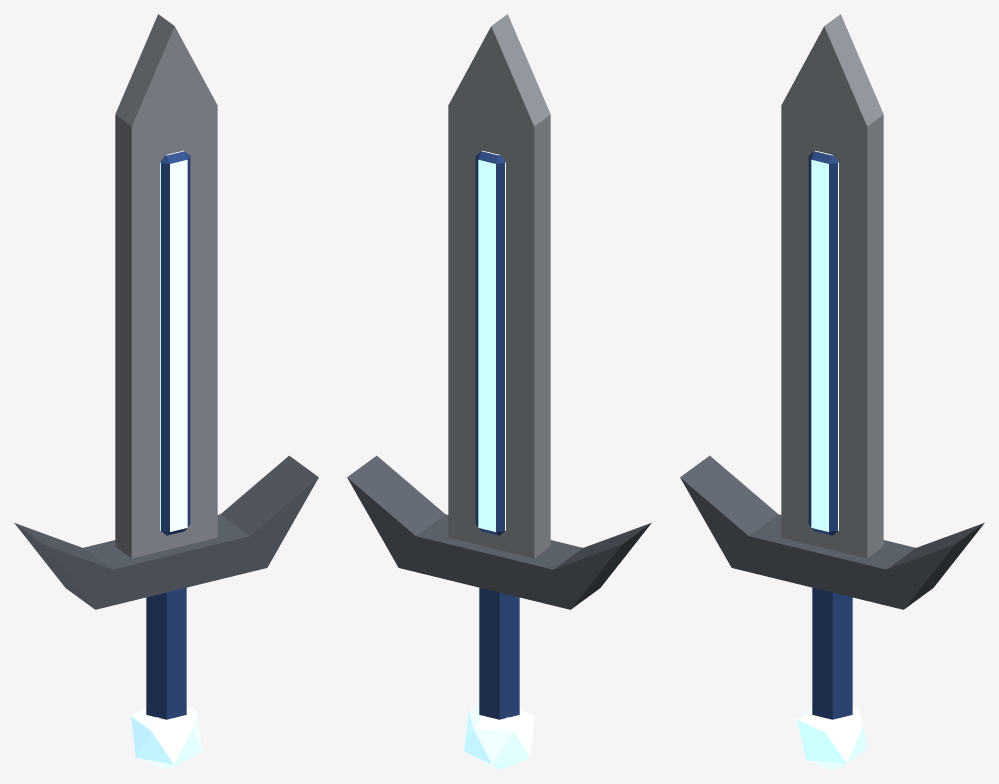
File: moonsteel_blade.glb
3 views of the same model, side by side, from view 1: azimuth 30°, elevation 25°; view 2: azimuth 150°, elevation 25°; view 3: azimuth 330°, elevation 25° (orthographic).
Parts seen in each view (by area): view 1: moonsteel_blade; view 2: moonsteel_blade; view 3: moonsteel_blade.
Boxes of the visible parts, left/top/right/bottom form: moonsteel_blade: left=14, top=14, right=318, bottom=769; moonsteel_blade: left=347, top=14, right=651, bottom=769; moonsteel_blade: left=680, top=14, right=984, bottom=769.
Bounding box in the file's own units: 0.48 × 1.25 × 0.1021.
